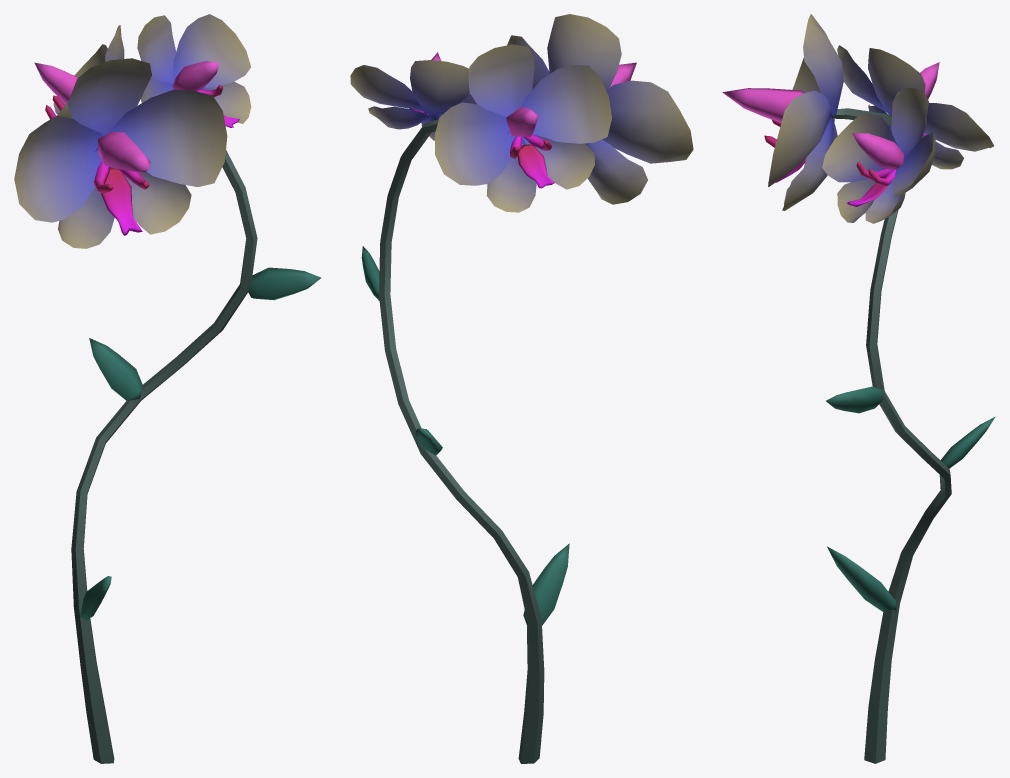
File: OBJ_PermafrostOrchid.fbx
The picture shows the model from 3 angles, left to right: view 1: azimuth 30°, elevation 25°; view 2: azimuth 150°, elevation 25°; view 3: azimuth 270°, elevation 25°; orthographic projection.
Visible parts, largest first — view 1: OBJ_PermafrostOrchid; view 2: OBJ_PermafrostOrchid; view 3: OBJ_PermafrostOrchid.
Boxes of the visible parts, x1,y1,x2,y2 form: OBJ_PermafrostOrchid: [14, 14, 321, 763]; OBJ_PermafrostOrchid: [350, 14, 693, 763]; OBJ_PermafrostOrchid: [722, 14, 995, 763].
Bounding box in the file's own units: 55.24 × 121 × 41.38.
